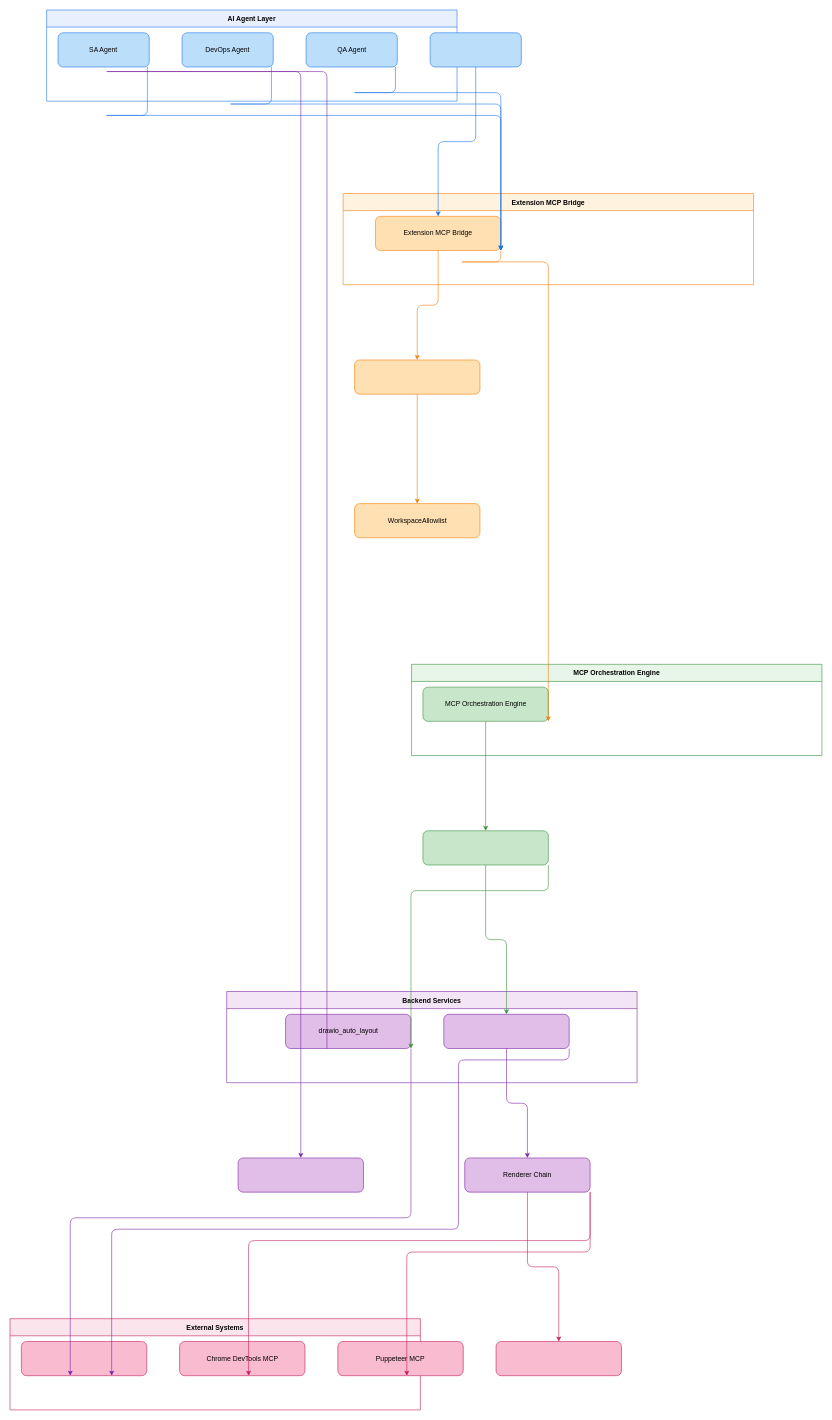
Image size: 832x1420. Some labels were removed from this diagram. The centre of each missing label's shape, as x and y in pixels:
BA Agent: point (475, 49)
draw.io Desktop CLI: point (558, 1358)
drawio_export_png: point (506, 1031)
ELK.js Layout Engine: point (300, 1174)
MultiWorktreePathResolver: point (417, 376)
Tool Registry: point (485, 847)
Workspace Filesystem: point (84, 1358)
